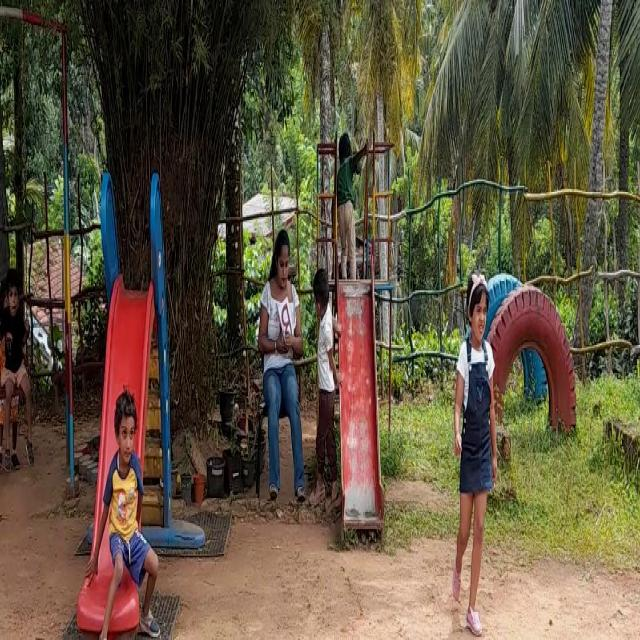adult: (256, 228, 306, 509)
child: (444, 268, 499, 640), (89, 390, 154, 640), (311, 264, 339, 521), (0, 262, 31, 460), (338, 127, 361, 284)
